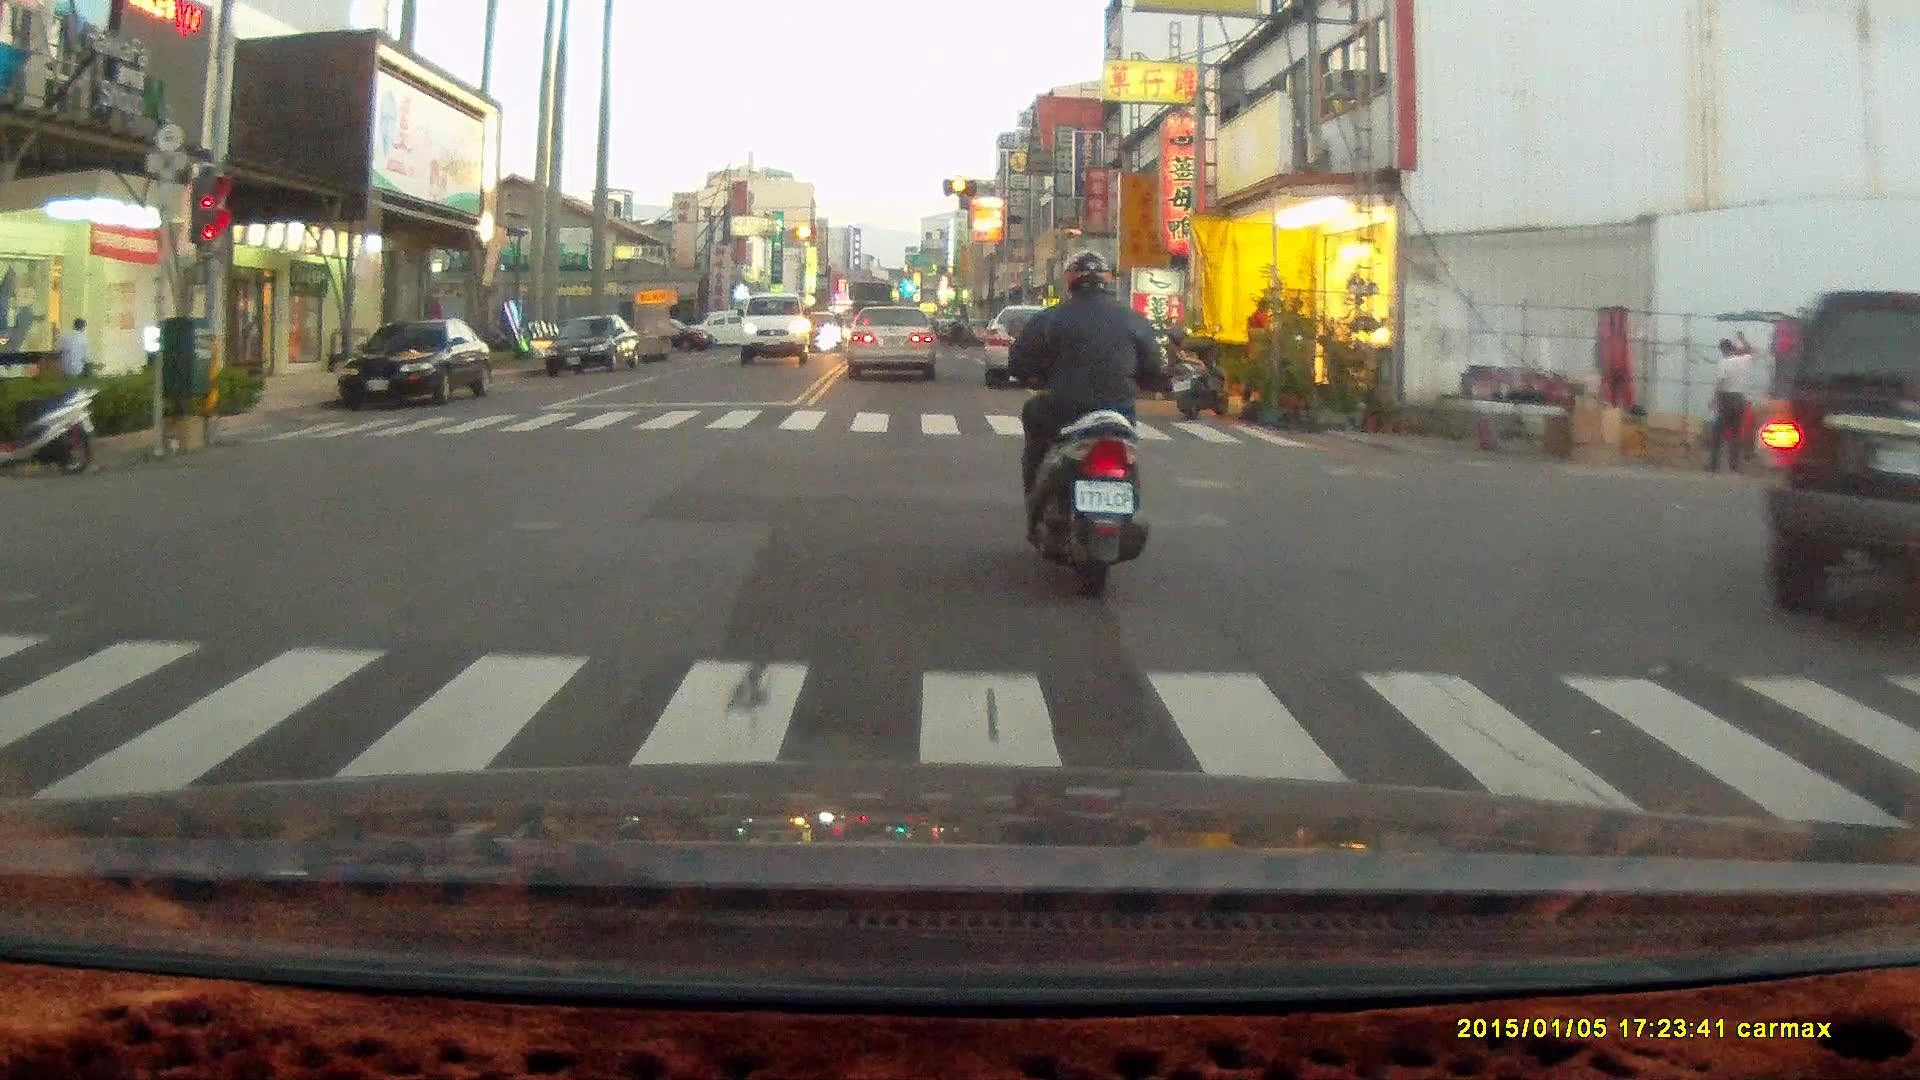pedestrian: (1705, 334, 1755, 473), (1241, 295, 1277, 411), (60, 316, 93, 391)
rider: (1002, 246, 1164, 597)
vehicle: (1754, 281, 1920, 622), (334, 317, 492, 415), (985, 302, 1096, 389), (848, 302, 937, 380), (547, 315, 642, 379), (741, 293, 812, 365)
